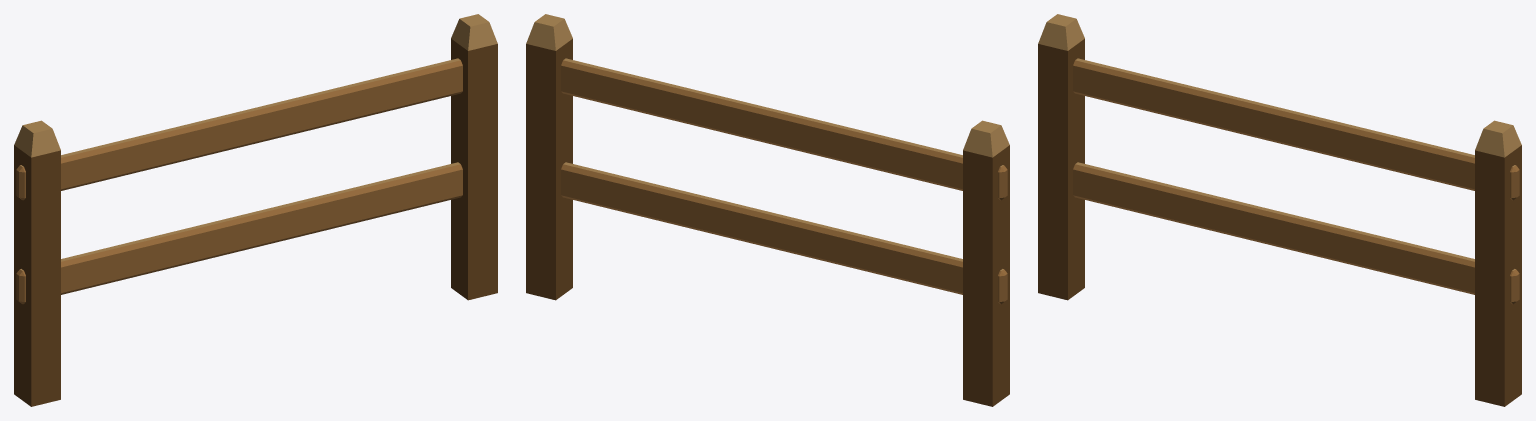
The model's file is fence_section.glb.
3 renders of one model, left to right at view 1: azimuth 30°, elevation 25°; view 2: azimuth 150°, elevation 25°; view 3: azimuth 330°, elevation 25°, orthographic.
Visible parts, largest first — view 1: FenceSection; view 2: FenceSection; view 3: FenceSection.
Part boxes in pixels (bbox=[...]): FenceSection: bbox=[14, 14, 497, 406]; FenceSection: bbox=[526, 14, 1009, 406]; FenceSection: bbox=[1038, 14, 1521, 406].
Size of the model in its own units: 2.4 by 1.3 by 0.15.
